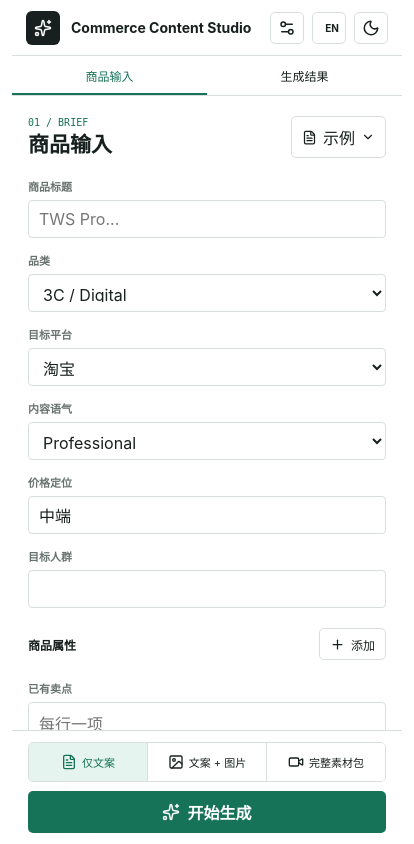
switches language and persists it
This screenshot has width=414, height=844.
Click the button titled "Language".
click(329, 28)  # box [312,12,346,44]
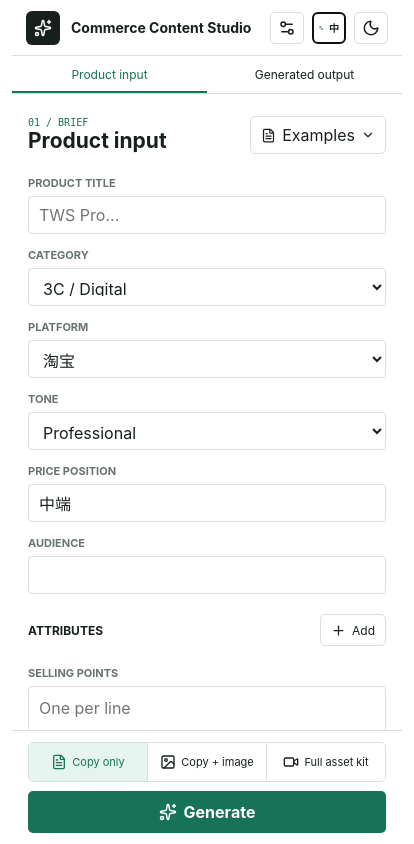
Expected: the button "Product input" is shown, [12,56,207,93]
